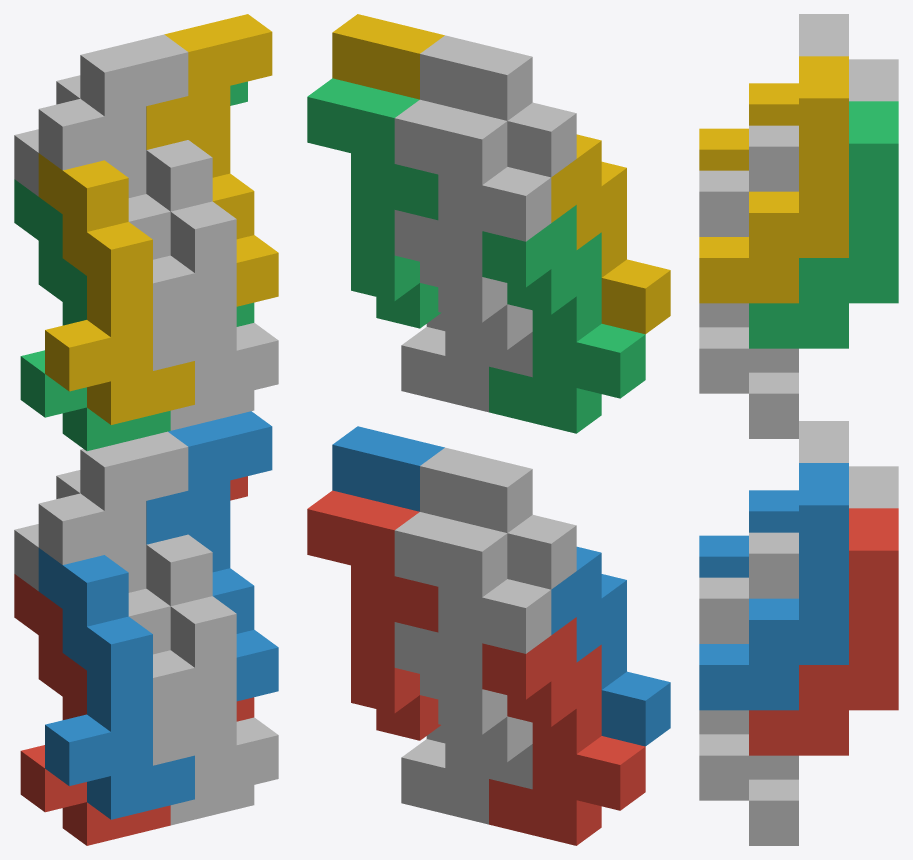
File: tiling.obj
3 views of the same model, side by side, from view 1: azimuth 30°, elevation 25°; view 2: azimuth 150°, elevation 25°; view 3: azimuth 270°, elevation 25° (orthographic). The views are drawn at different scales.
Visible parts, largest first — view 1: copy_1_domain_2, copy_1_domain_4, copy_2_domain_4, copy_1_domain_6, copy_1_domain_8, copy_2_domain_2, copy_2_domain_8, copy_2_domain_6, copy_1_domain_1, copy_1_domain_3, copy_2_domain_3, copy_2_domain_1 (+4 smaller); view 2: copy_1_domain_3, copy_1_domain_1, copy_2_domain_3, copy_2_domain_1, copy_2_domain_7, copy_2_domain_5, copy_2_domain_4, copy_2_domain_2, copy_1_domain_4, copy_1_domain_2, copy_1_domain_5, copy_1_domain_7 (+2 smaller); view 3: copy_2_domain_6, copy_2_domain_8, copy_2_domain_5, copy_2_domain_7, copy_1_domain_6, copy_1_domain_8, copy_1_domain_5, copy_1_domain_7, copy_1_domain_2, copy_1_domain_4, copy_2_domain_1, copy_2_domain_3 (+2 smaller).
Part boxes in pixels (x1,y1,x2,y2): copy_1_domain_2: (38,548,194,819); copy_1_domain_4: (38,153,194,424); copy_2_domain_4: (38,34,194,326); copy_1_domain_6: (146,534,278,799); copy_1_domain_8: (146,140,278,404); copy_2_domain_2: (38,431,194,721); copy_2_domain_8: (146,14,278,306); copy_2_domain_6: (146,411,278,701); copy_1_domain_1: (14,574,170,845); copy_1_domain_3: (14,179,170,451); copy_2_domain_3: (14,75,80,196); copy_2_domain_1: (14,470,80,590); copy_1_domain_3: (482,205,645,433); copy_1_domain_1: (482,617,645,845); copy_2_domain_3: (394,99,551,349); copy_2_domain_1: (394,512,551,761); copy_2_domain_7: (307,78,441,328); copy_2_domain_5: (307,490,440,740); copy_2_domain_4: (420,35,576,177); copy_2_domain_2: (420,447,576,589); copy_1_domain_4: (551,134,670,334); copy_1_domain_2: (551,546,670,746); copy_1_domain_5: (394,622,532,824); copy_1_domain_7: (394,210,532,412); copy_2_domain_6: (699,463,848,710); copy_2_domain_8: (699,56,848,303); copy_2_domain_5: (749,508,898,755); copy_2_domain_7: (749,101,898,348); copy_1_domain_6: (699,532,798,800); copy_1_domain_8: (699,125,798,393); copy_1_domain_5: (749,755,798,845); copy_1_domain_7: (749,348,798,438); copy_1_domain_2: (699,490,798,577); copy_1_domain_4: (699,83,798,170); copy_2_domain_1: (849,466,898,508); copy_2_domain_3: (849,59,898,101).
Size of the model in its own units: 6 by 17 by 4.
